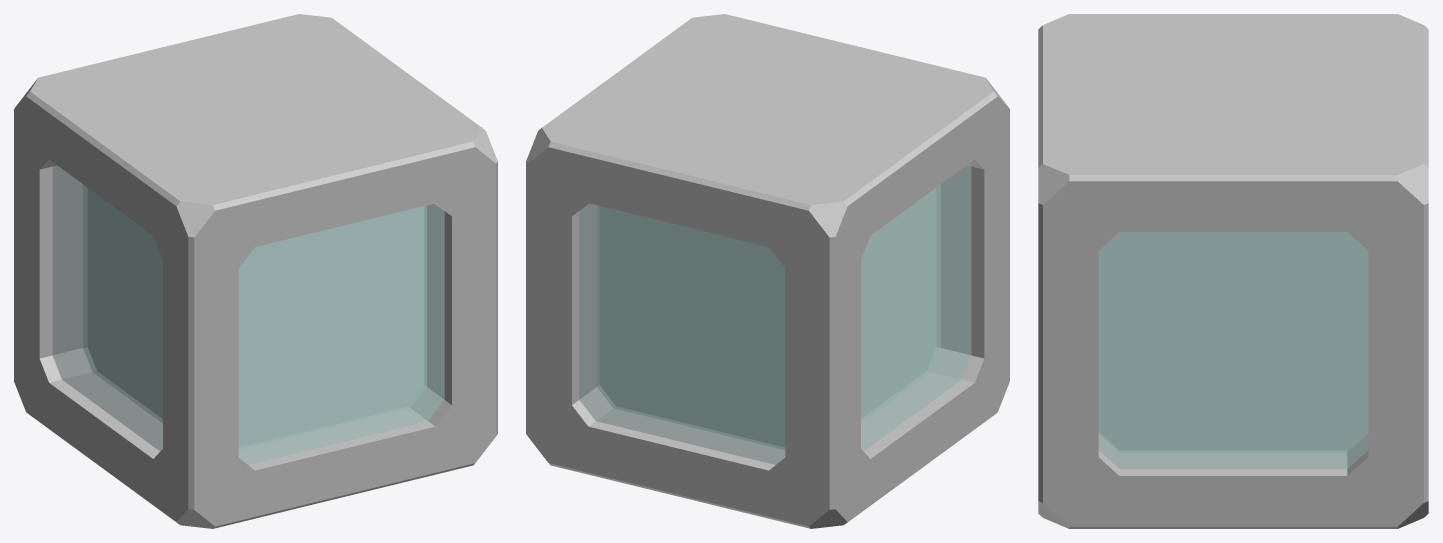
3 views of the same model, side by side, from view 1: azimuth 30°, elevation 25°; view 2: azimuth 150°, elevation 25°; view 3: azimuth 270°, elevation 25° (orthographic). The views are drawn at different scales.
Parts seen in each view (by area): view 1: CrateDefaultCube_SceneDetails_0; view 2: CrateDefaultCube_SceneDetails_0; view 3: CrateDefaultCube_SceneDetails_0.
Part boxes in pixels (<box>): CrateDefaultCube_SceneDetails_0: <box>14,14,497,528</box>; CrateDefaultCube_SceneDetails_0: <box>526,14,1009,528</box>; CrateDefaultCube_SceneDetails_0: <box>1038,14,1428,528</box>.
Size of the model in its own units: 0.0725 by 0.0725 by 0.0725.
